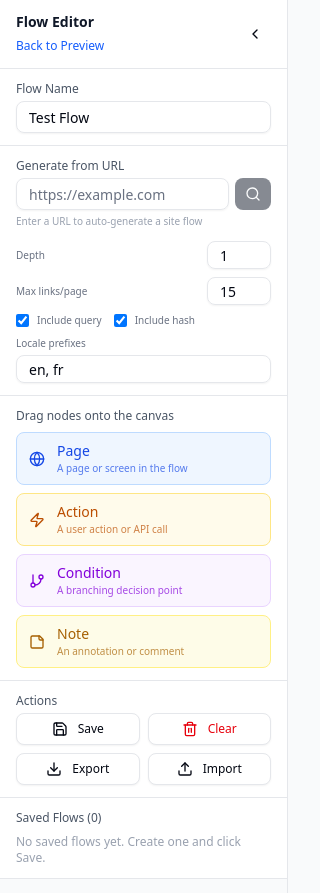
Test: Generate flow from URL › sidebar crawl UI › should show generic error message for non-Error rejections
Type "https://broken.com" into the field with placeholder "https://example.com". click: (122, 194)
box: [16, 178, 229, 210]
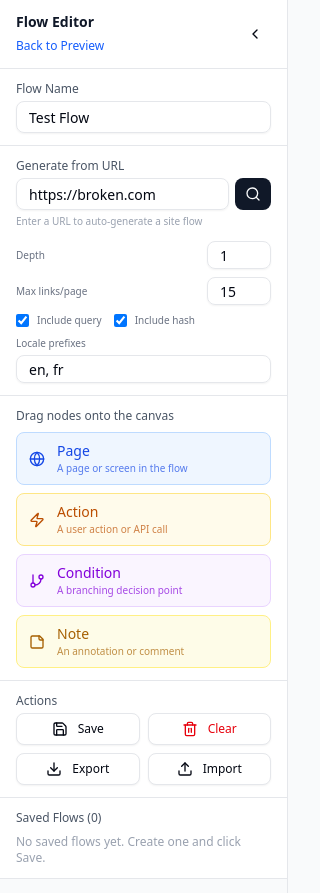
Press Enter in the 2nd field with placeholder "https://example.com", box [16, 178, 229, 210]
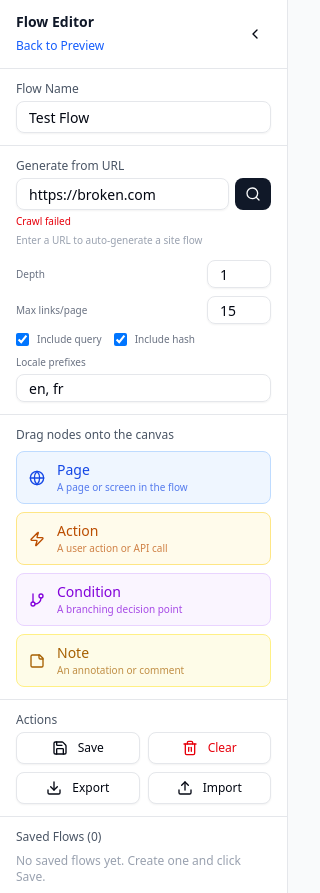
Now the text "Crawl failed" is shown, box [16, 214, 71, 228]
